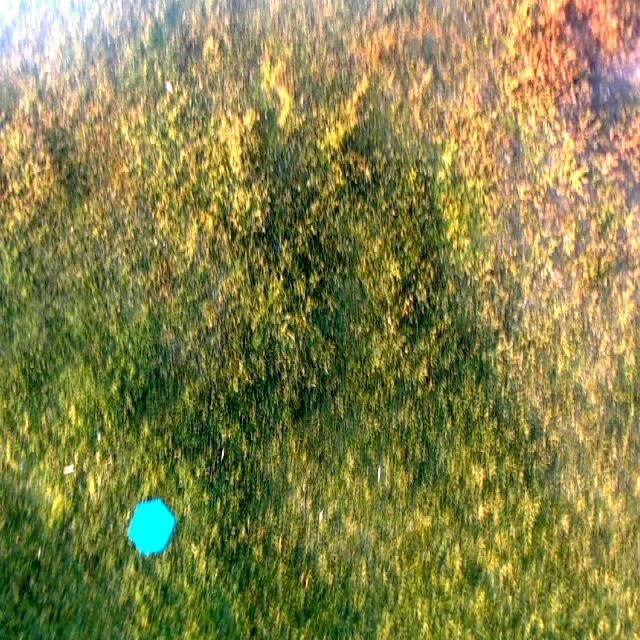blue_hexagon: (126, 500, 174, 556)
